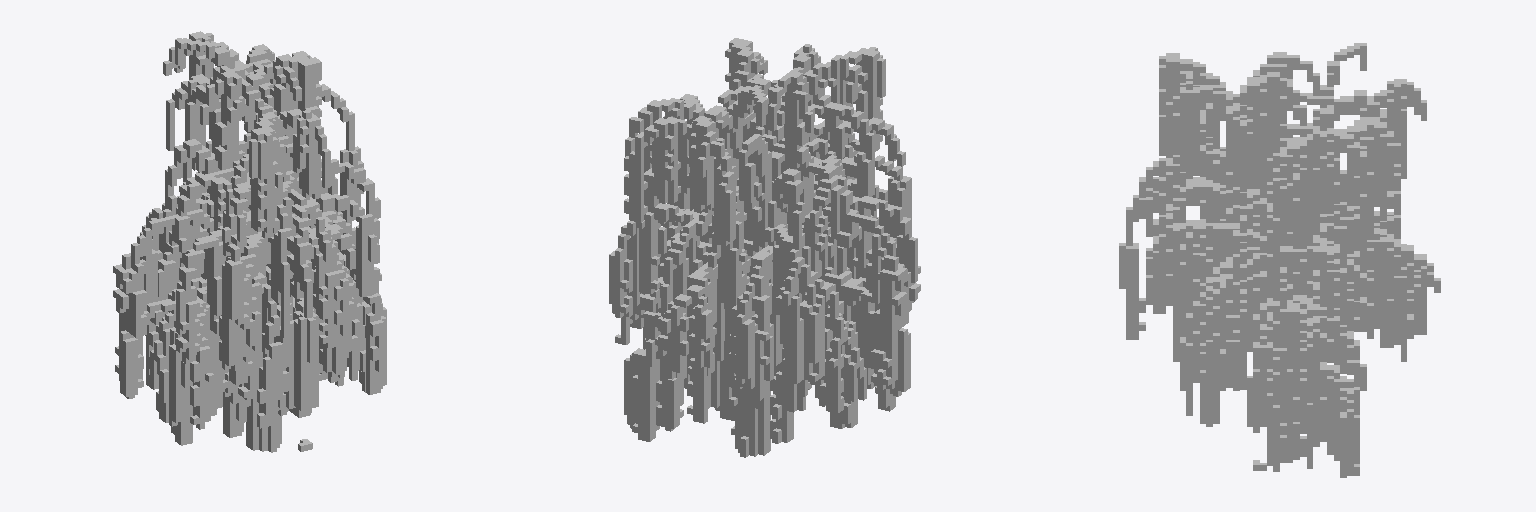
File: Sauce.obj
3 views of the same model, side by side, from view 1: azimuth 30°, elevation 25°; view 2: azimuth 150°, elevation 25°; view 3: azimuth 270°, elevation 25° (orthographic).
Parts seen in each view (by area): view 1: Content.001; view 2: Content.001; view 3: Content.001.
Part boxes in pixels (x1,y1,x2,y2): Content.001: (113,31,386,452); Content.001: (609,38,920,457); Content.001: (1119,43,1440,477).
Bounding box in the file's own units: 4.7 × 6.4 × 4.8.